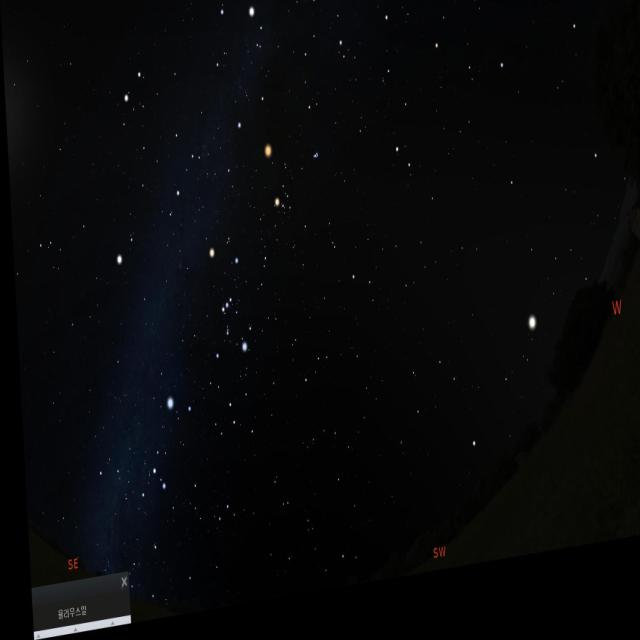canis_major: (136, 394, 193, 498)
canis_minor: (106, 231, 138, 281)
gemini: (111, 54, 212, 238)
orion: (193, 246, 248, 382)
pleiades: (304, 154, 325, 182)
taurus: (255, 134, 327, 245)
